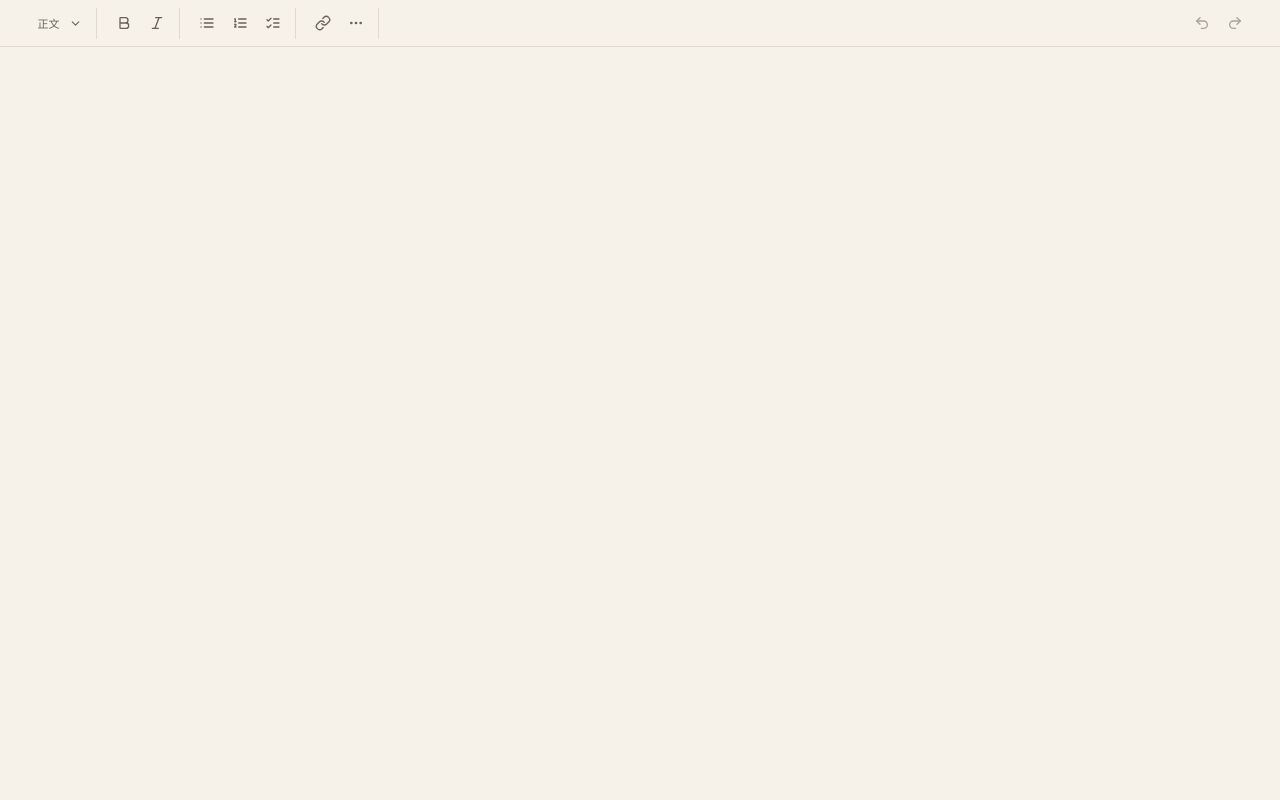
Test: EditorToolbar 链接弹窗 › 显示非法地址错误并允许按 Escape 取消
Click the button named "链接" at (322, 23), box [307,8,338,38]
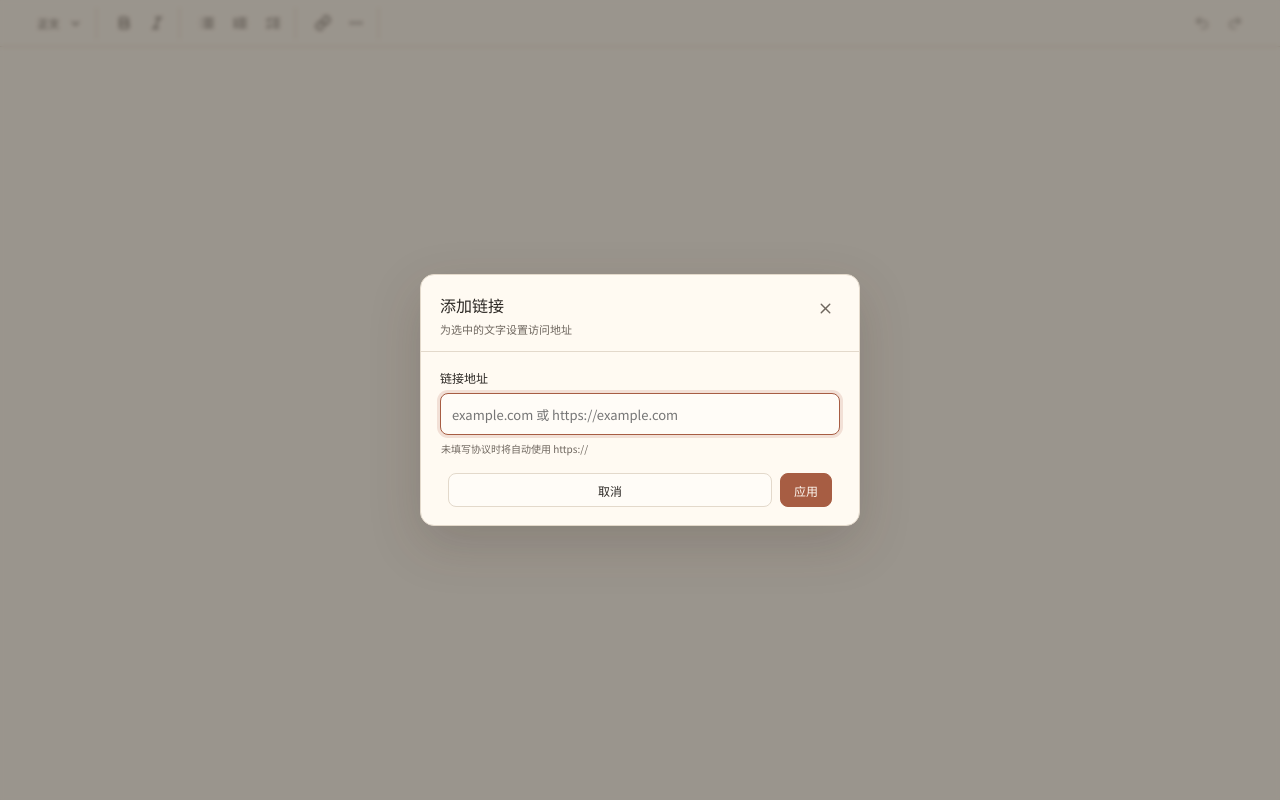
Type "data:text/html,bad" into the field labelled "链接地址" at (640, 414), box [440,393,840,435]
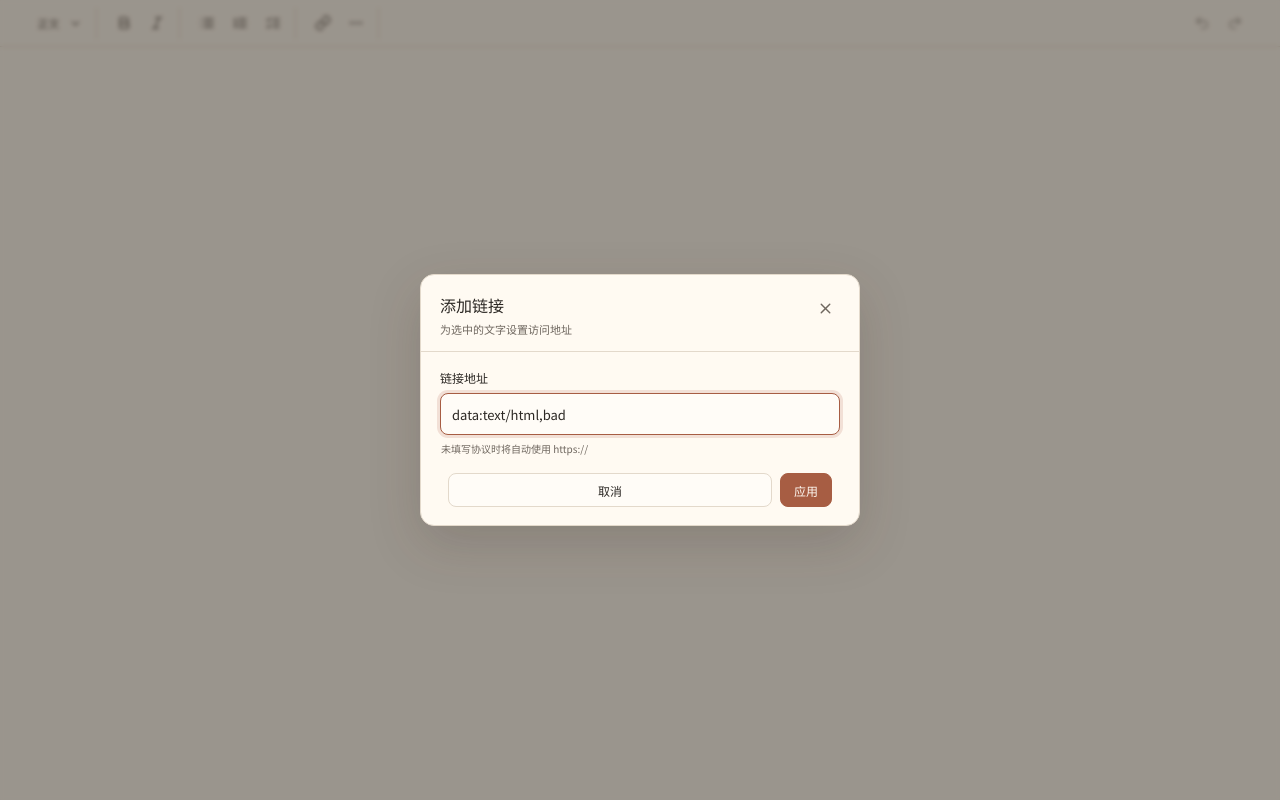
Click the button "应用" at (806, 490), box [780,473,832,507]
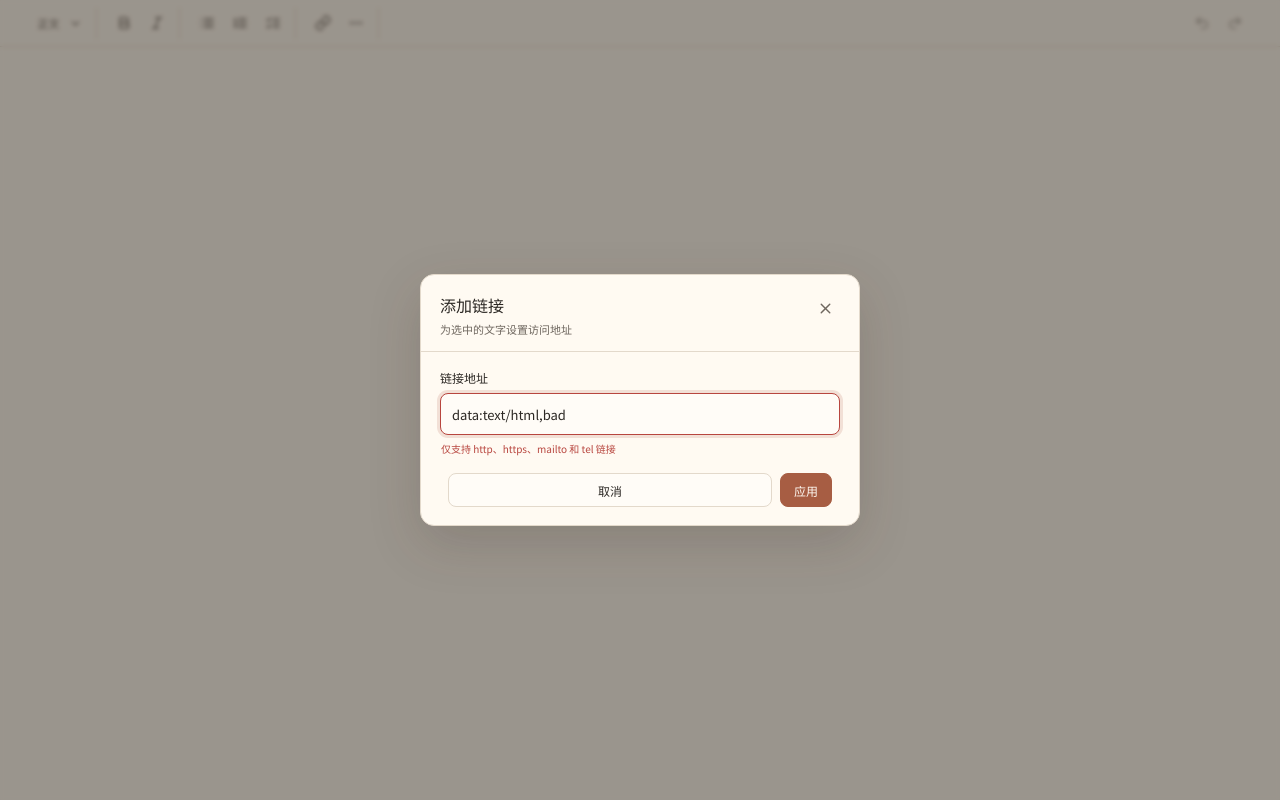
expect the message shows "仅支持": met, box [441,441,616,456]
Press Escape in the dialog, box [420,274,860,526]
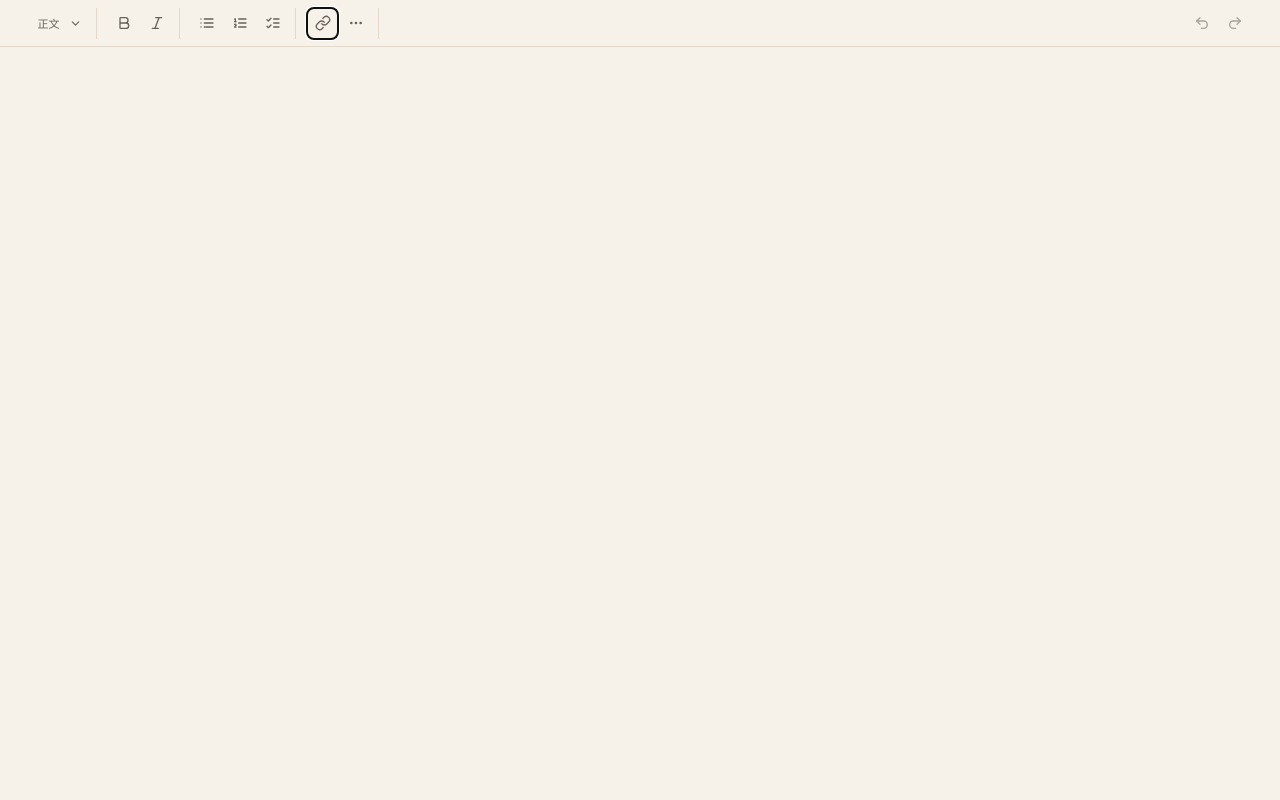
expect the dialog is gone: met
